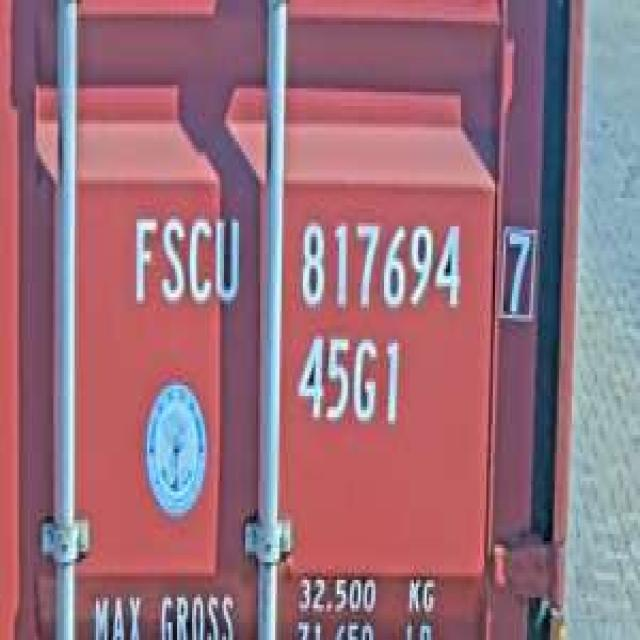dv: (497, 219, 540, 329)
owner: (124, 205, 245, 315)
serial: (292, 209, 467, 325)
size: (292, 329, 406, 438)
